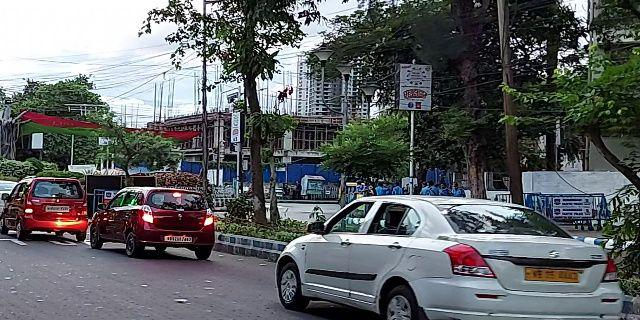Car: (275, 194, 628, 320), (101, 176, 221, 260), (2, 173, 92, 240)
